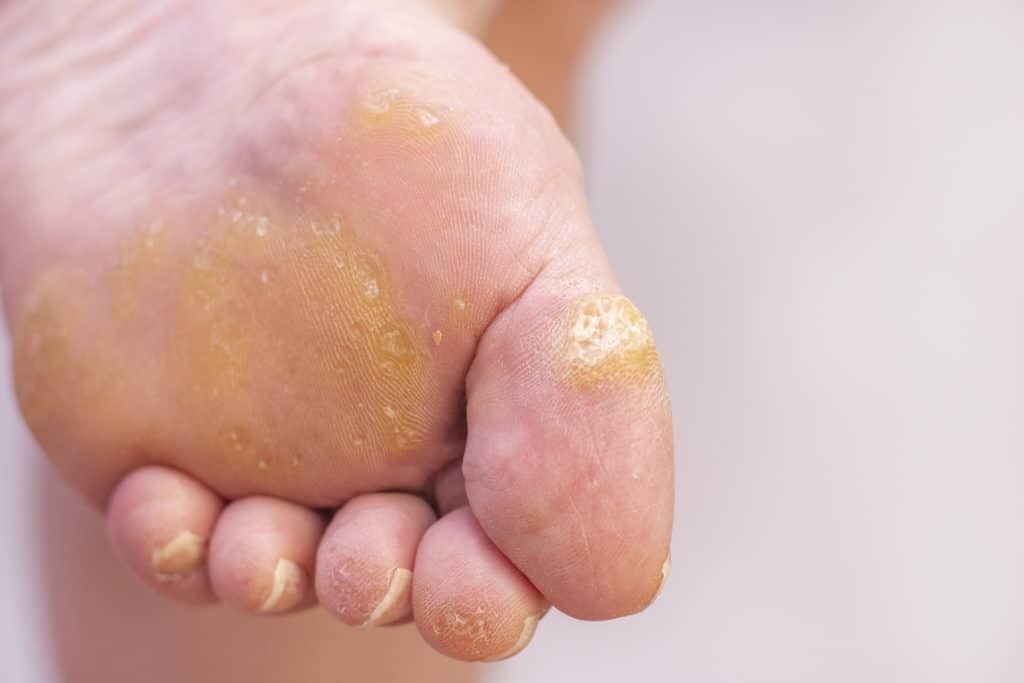Warts: (0, 75, 661, 659)
